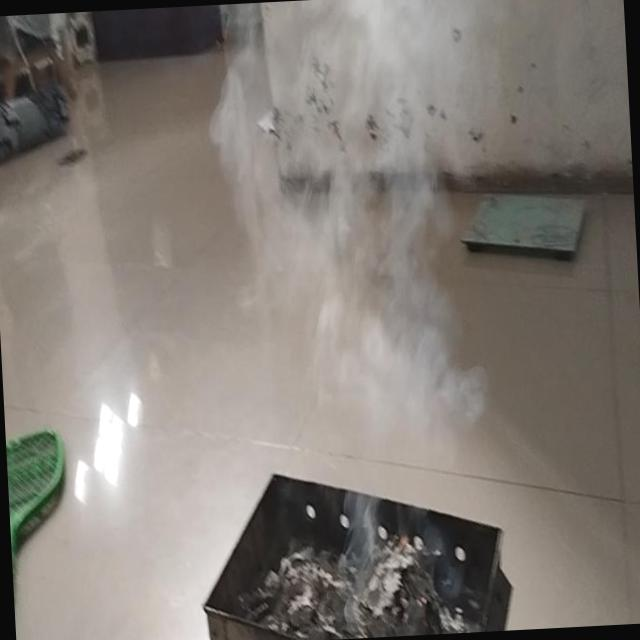smoke: (201, 0, 530, 260), (288, 262, 532, 577)
